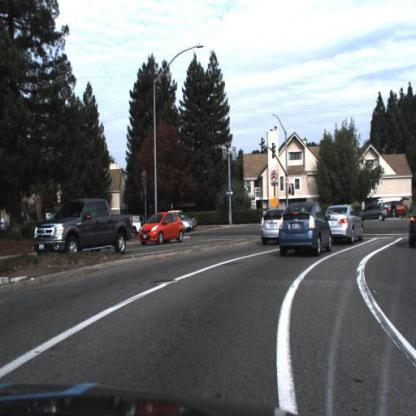car: (26, 193, 136, 271), (271, 198, 335, 265), (134, 205, 187, 254), (328, 203, 370, 247), (258, 204, 284, 251), (384, 196, 406, 221), (384, 199, 409, 221), (182, 218, 196, 233), (193, 214, 199, 232)
pedestrian: (391, 199, 397, 221)
